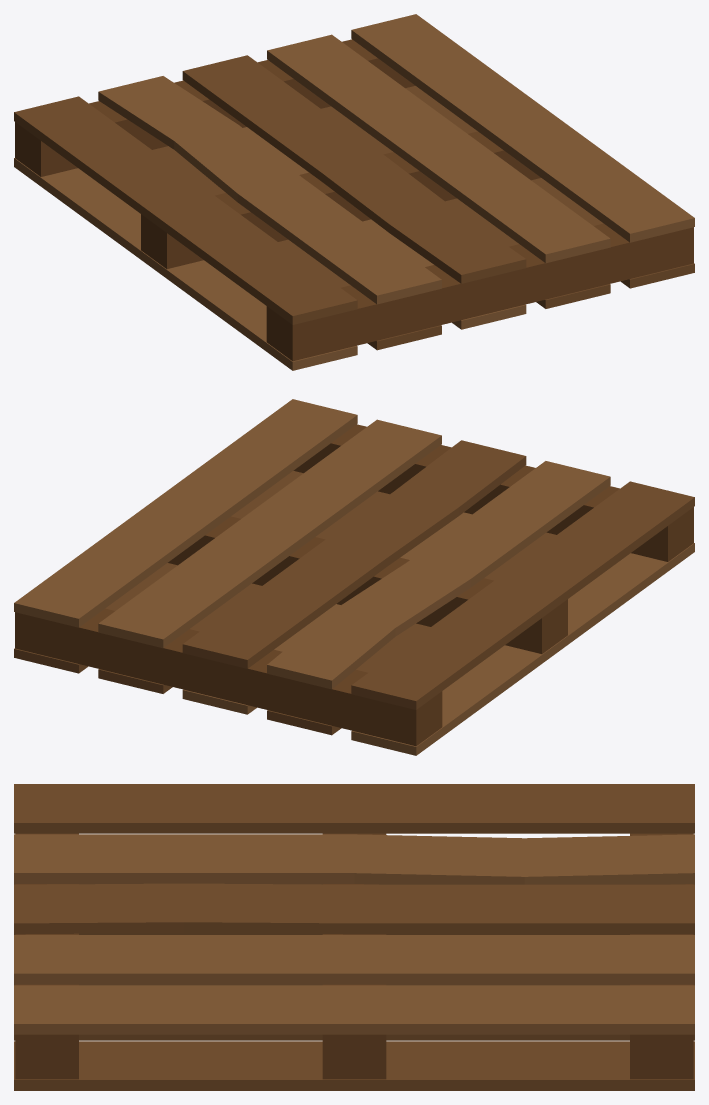
File: Pallet_01.fbx
3 views of the same model, one above another, from view 1: azimuth 30°, elevation 25°; view 2: azimuth 150°, elevation 25°; view 3: azimuth 270°, elevation 25° (orthographic). The views are drawn at different scales.
Parts seen in each view (by area): view 1: Pallet_01; view 2: Pallet_01; view 3: Pallet_01.
Part boxes in pixels (bbox=[...]): Pallet_01: bbox=[14, 14, 694, 370]; Pallet_01: bbox=[14, 399, 694, 755]; Pallet_01: bbox=[14, 784, 694, 1090].
Size of the model in its own units: 100 by 13 by 120.
